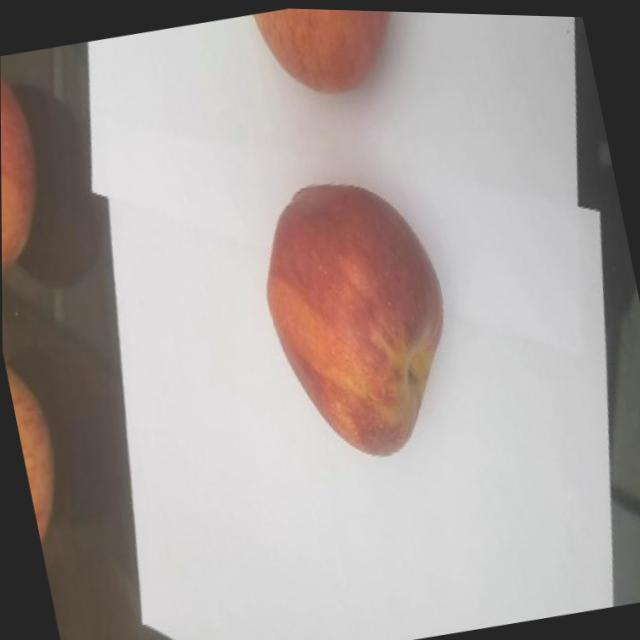Apple: (245, 162, 472, 473), (253, 6, 414, 107), (0, 54, 61, 286), (6, 361, 72, 547)
